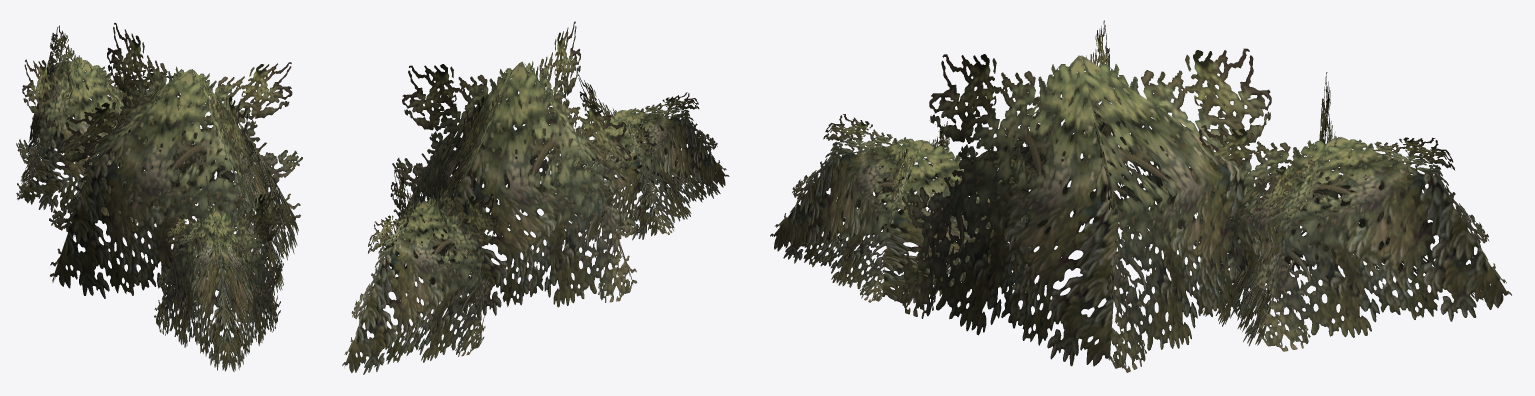
Rendered from darkshorebush02.obj.
3 views of the same model, side by side, from view 1: azimuth 30°, elevation 25°; view 2: azimuth 150°, elevation 25°; view 3: azimuth 270°, elevation 25° (orthographic). The views are drawn at different scales.
Parts seen in each view (by area): view 1: darkshorebush02; view 2: darkshorebush02; view 3: darkshorebush02.
Part boxes in pixels (box(x1,y1,x2,y2)): darkshorebush02: box(16, 23, 302, 371); darkshorebush02: box(342, 21, 729, 374); darkshorebush02: box(770, 20, 1511, 372).
Size of the model in its own units: 5.86 by 4.31 by 11.7.
1 material, 1 textured.
